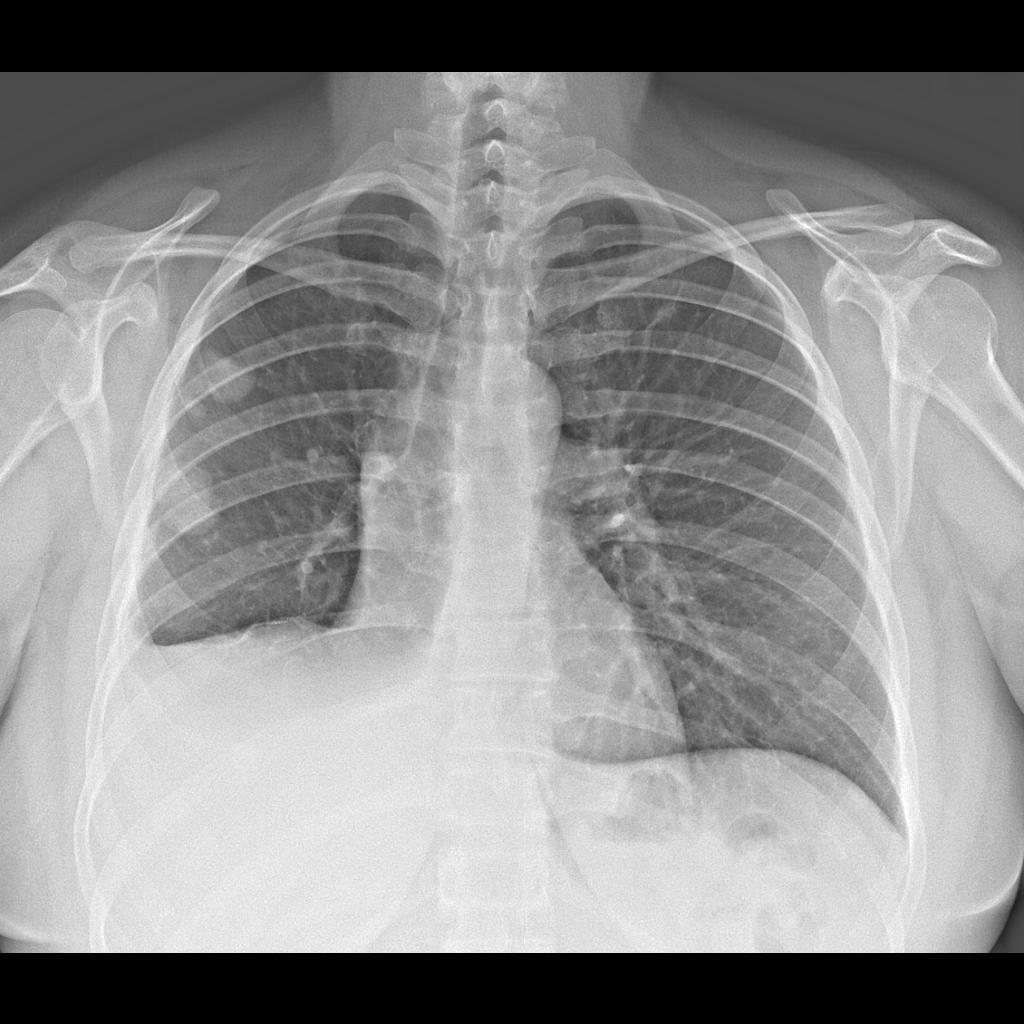Nodule: (156, 462, 223, 549), (204, 353, 253, 411)
